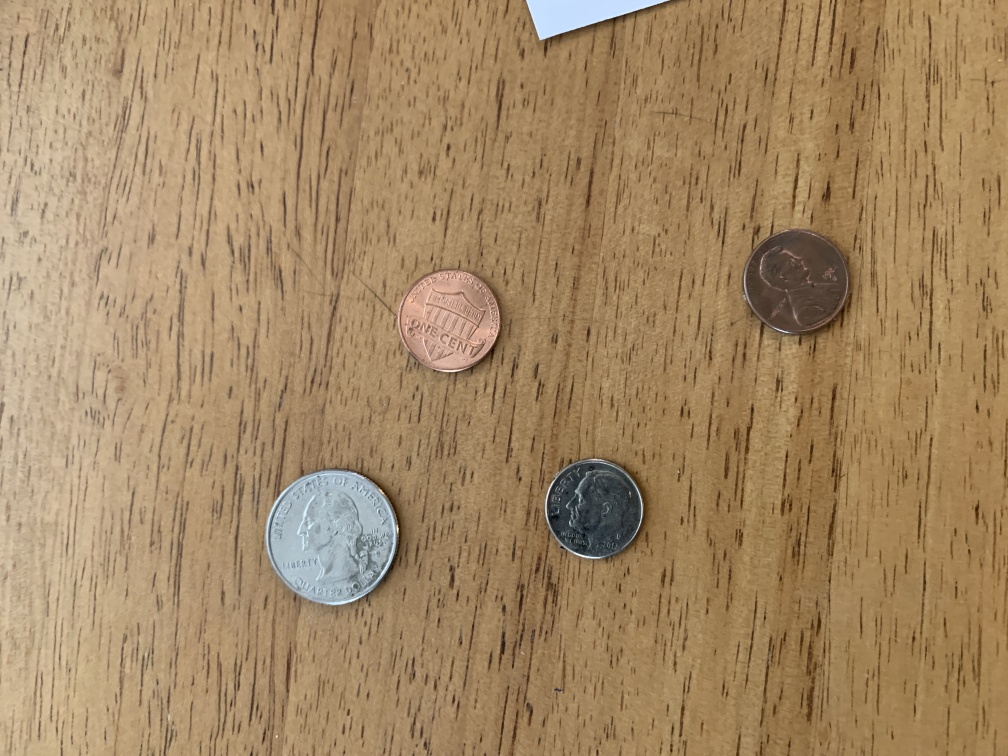dime: (544, 455, 649, 567)
penny: (738, 228, 854, 340), (395, 264, 507, 378)
quarter: (264, 466, 405, 610)
